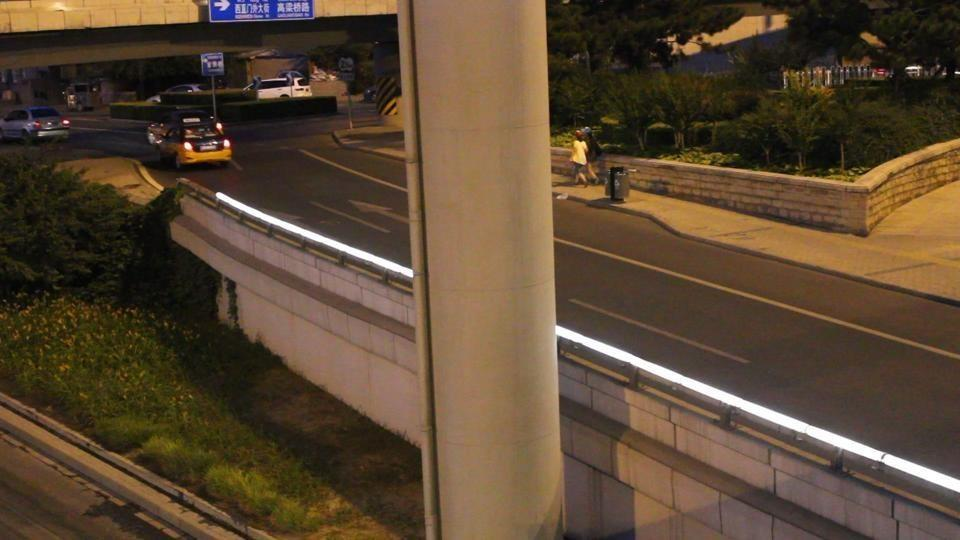car: (148, 111, 233, 170), (0, 106, 70, 145), (243, 75, 312, 100)
